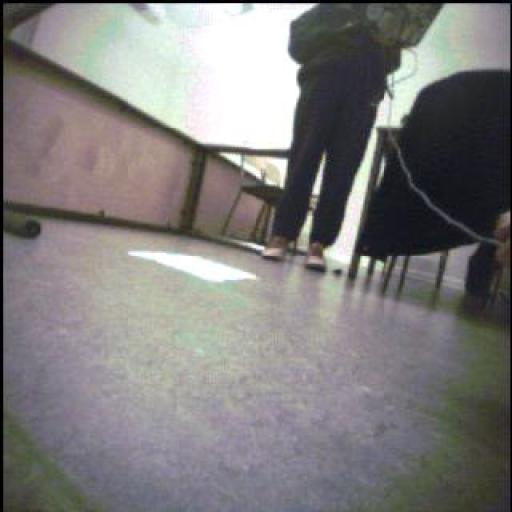Pad: (135, 248, 252, 288)
